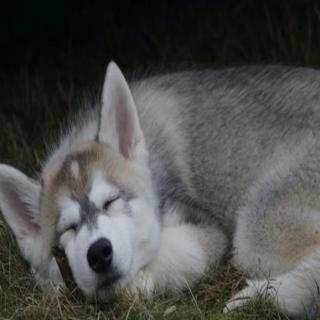dog: (8, 80, 170, 315)
nose: (81, 238, 120, 272)
